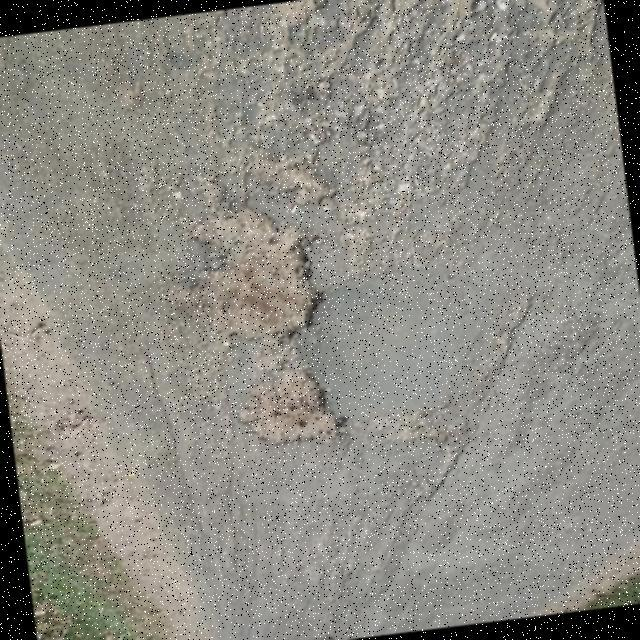Pothole: (204, 177, 335, 443)
